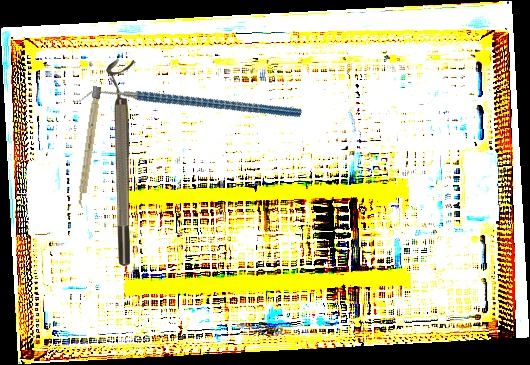Chopper: (74, 20, 304, 192)
Fixation Ring: (106, 59, 134, 266)
Scalpel Handle: (76, 86, 102, 208)
